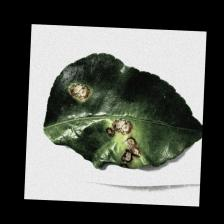canker: (67, 74, 159, 177)
